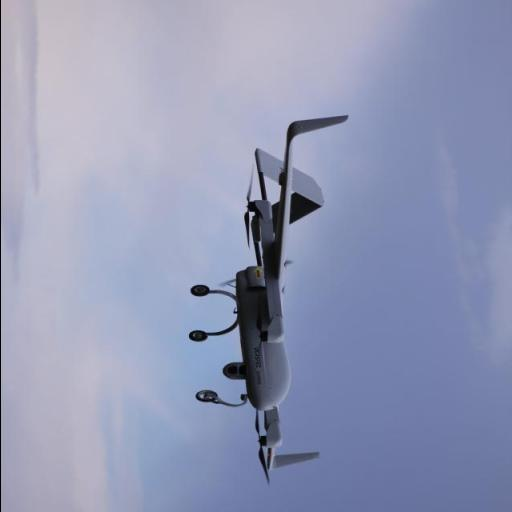uav: (186, 107, 352, 482)
